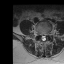CCS_normal: (42, 32, 44, 43)
LFS_stenosis: (46, 30, 48, 37)
LLS_normal: (44, 31, 46, 41)
RFS_normal: (39, 30, 40, 37)
RLS_normal: (40, 31, 42, 41)
